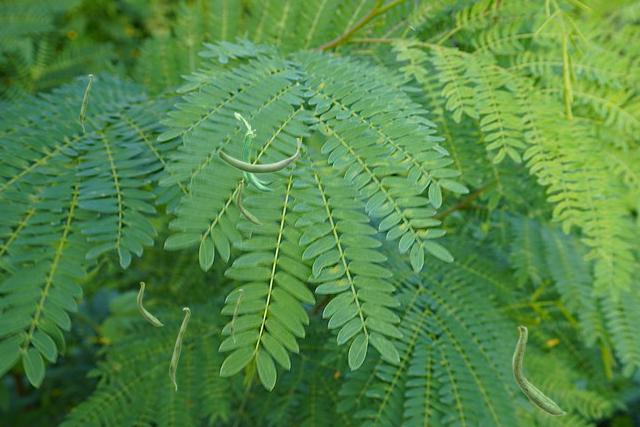french_bean: (512, 324, 565, 415), (234, 112, 281, 191), (218, 138, 299, 173), (169, 307, 189, 390), (236, 180, 261, 224), (137, 281, 162, 325), (79, 74, 92, 131), (230, 289, 242, 342)
